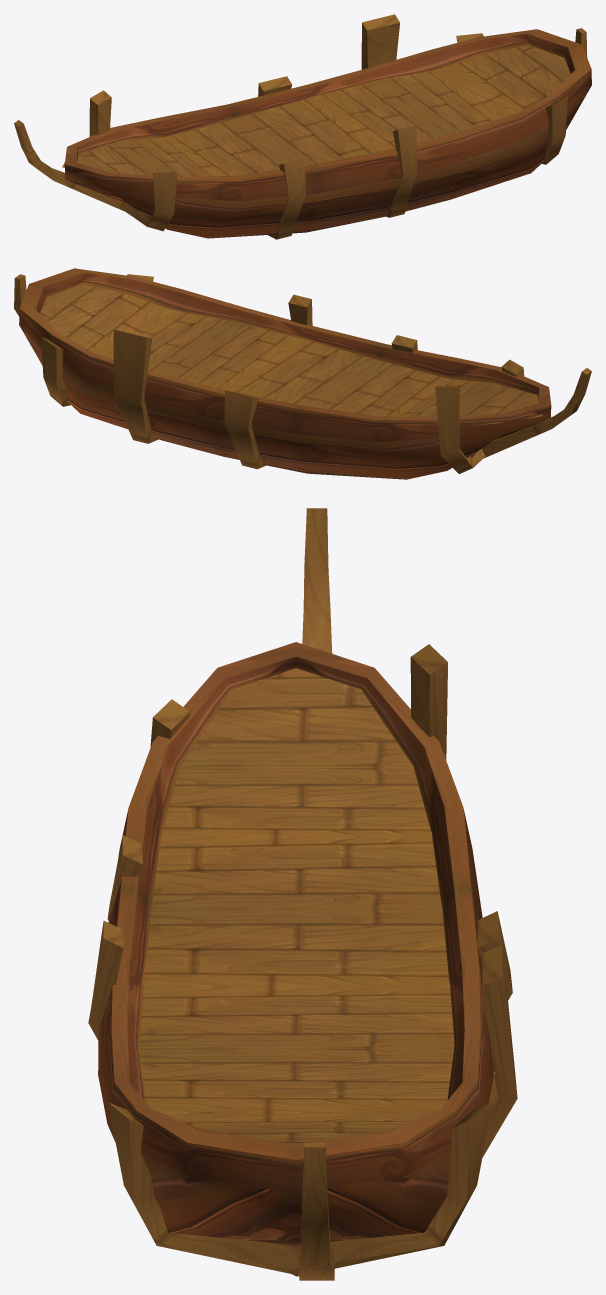
The model's file is chuan.FBX.
3 renders of one model, top to bottom at view 1: azimuth 30°, elevation 25°; view 2: azimuth 150°, elevation 25°; view 3: azimuth 270°, elevation 25°, orthographic. The views are drawn at different scales.
Parts seen in each view (by area): view 1: ship01; view 2: ship01; view 3: ship01.
Part boxes in pixels (<box>): ship01: <box>14,14,591,239</box>; ship01: <box>14,268,591,479</box>; ship01: <box>88,508,517,1280</box>.
Size of the model in its own units: 390 by 107 by 128.
